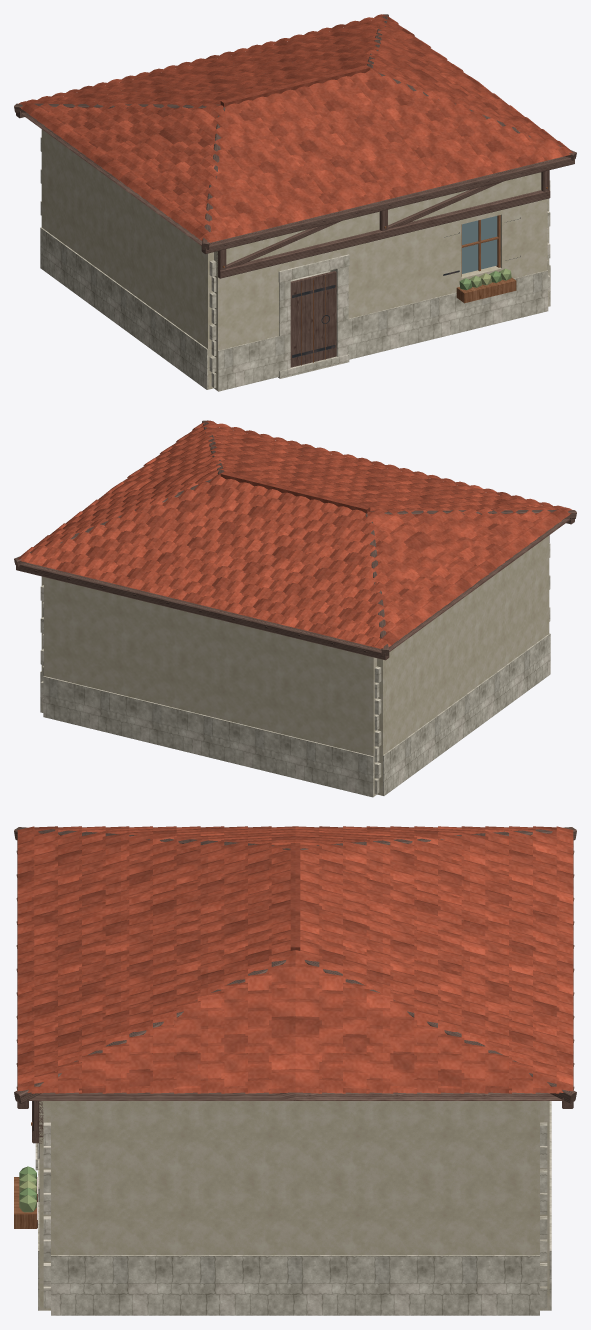
Rendered from B22_vivienda.glb.
3 renders of one model, top to bottom at view 1: azimuth 30°, elevation 25°; view 2: azimuth 150°, elevation 25°; view 3: azimuth 270°, elevation 25°, orthographic. The views are drawn at different scales.
Visible parts, largest first — view 1: AUR034_B22_clay_tiles, AUR034_B22_lower_masonry, AUR034_B22_projecting_stone_plinth, AUR034_B22_fascia-1, AUR034_B22_entry_leaf0, AUR034_B22_sill, AUR034_B22_window0_glazing, AUR034_B22_dressed_corner_stones, AUR034_B22_entry_pier1, AUR034_B22_roof_sheathing, AUR034_B22_ridge, AUR034_B22_entry_pier-1 (+5 smaller); view 2: AUR034_B22_clay_tiles, AUR034_B22_lower_masonry, AUR034_B22_projecting_stone_plinth, AUR034_B22_fascia1, AUR034_B22_dressed_corner_stones, AUR034_B22_roof_sheathing, AUR034_B22_ridge; view 3: AUR034_B22_clay_tiles, AUR034_B22_lower_masonry, AUR034_B22_projecting_stone_plinth, AUR034_B22_roof_sheathing, AUR034_B22_dressed_corner_stones, AUR034_B22_ridge, AUR034_B22_hip_rafter_1-1, AUR034_B22_hip_rafter_11, AUR034_B22_flower_box0.
Part boxes in pixels (left/top/right/bottom): AUR034_B22_clay_tiles: left=18, top=14, right=572, bottom=242; AUR034_B22_lower_masonry: left=41, top=129, right=549, bottom=390; AUR034_B22_projecting_stone_plinth: left=40, top=227, right=550, bottom=391; AUR034_B22_fascia-1: left=201, top=156, right=574, bottom=253; AUR034_B22_entry_leaf0: left=290, top=271, right=336, bottom=367; AUR034_B22_sill: left=218, top=190, right=550, bottom=278; AUR034_B22_window0_glazing: left=462, top=216, right=497, bottom=273; AUR034_B22_dressed_corner_stones: left=40, top=137, right=550, bottom=387; AUR034_B22_entry_pier1: left=331, top=266, right=348, bottom=356; AUR034_B22_roof_sheathing: left=20, top=48, right=409, bottom=245; AUR034_B22_ridge: left=220, top=65, right=370, bottom=107; AUR034_B22_entry_pier-1: left=279, top=280, right=290, bottom=371; AUR034_B22_clay_tiles: left=18, top=420, right=571, bottom=648; AUR034_B22_lower_masonry: left=41, top=535, right=549, bottom=796; AUR034_B22_projecting_stone_plinth: left=40, top=633, right=550, bottom=797; AUR034_B22_fascia1: left=16, top=562, right=389, bottom=660; AUR034_B22_dressed_corner_stones: left=40, top=543, right=550, bottom=794; AUR034_B22_roof_sheathing: left=270, top=461, right=570, bottom=651; AUR034_B22_ridge: left=220, top=471, right=370, bottom=513; AUR034_B22_clay_tiles: left=17, top=826, right=573, bottom=1093; AUR034_B22_lower_masonry: left=39, top=1101, right=549, bottom=1310; AUR034_B22_projecting_stone_plinth: left=38, top=1101, right=551, bottom=1315; AUR034_B22_roof_sheathing: left=29, top=1092, right=561, bottom=1100; AUR034_B22_dressed_corner_stones: left=43, top=1122, right=547, bottom=1308; AUR034_B22_ridge: left=290, top=843, right=300, bottom=950; AUR034_B22_hip_rafter_1-1: left=14, top=960, right=286, bottom=1103; AUR034_B22_hip_rafter_11: left=304, top=960, right=576, bottom=1103; AUR034_B22_flower_box0: left=14, top=1177, right=37, bottom=1228.
Bounding box in the file's own units: 9.1 × 4.74 × 8.06.
13 materials, 9 textured.
